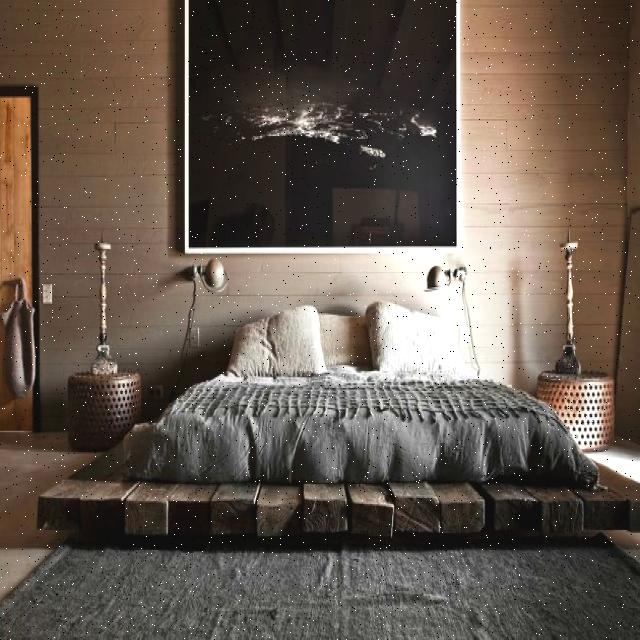bed: (141, 301, 553, 470)
